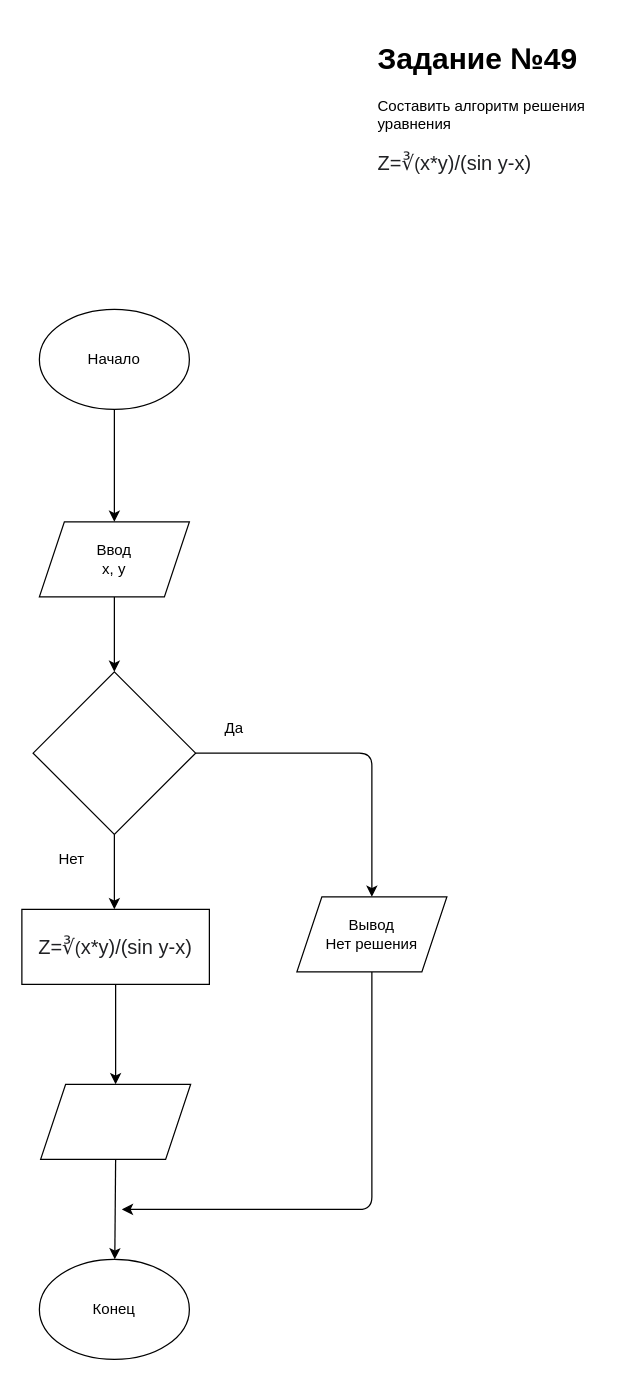
This 631x1381 diagram has some shape labels left out. The shapes that lost their labels are listed below. From the top down, each one's centre as x and y in pixels, then its label:
point 114,752: sin y-x=0
point 115,1121: Вывод Z
